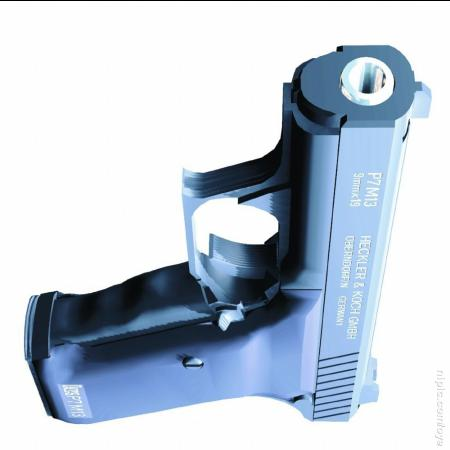Pistol: (25, 36, 433, 422)
